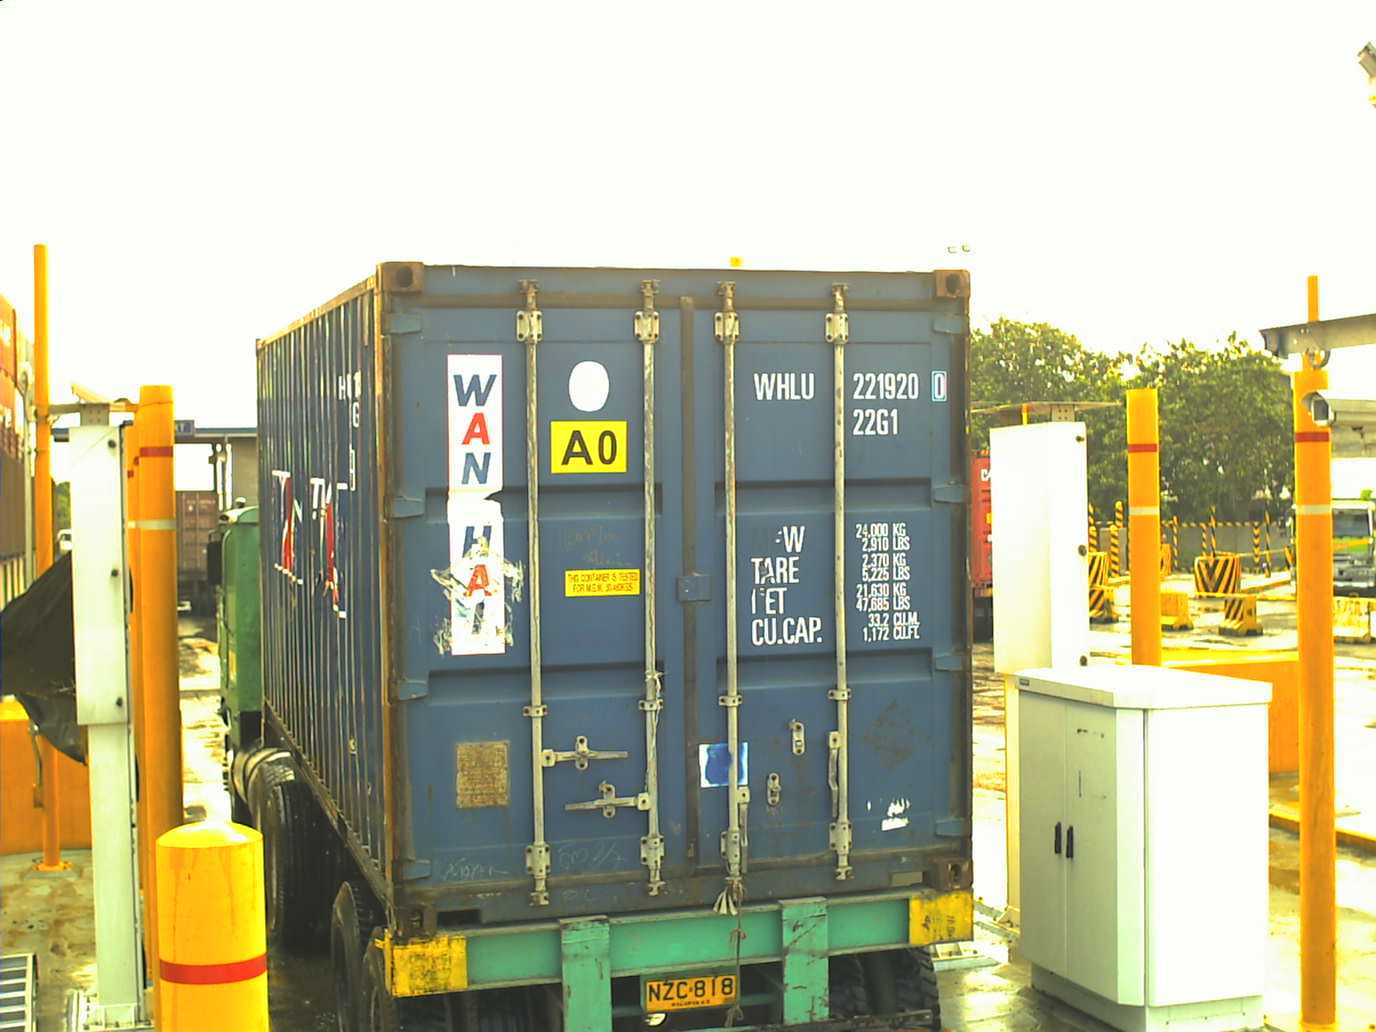container_door: (369, 258, 976, 925)
